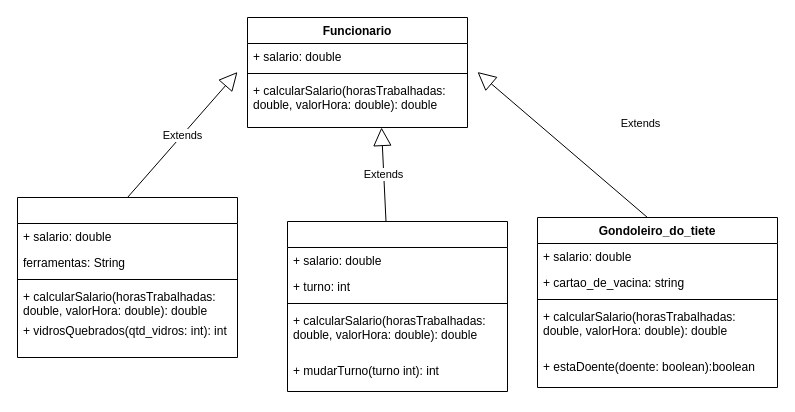
This 795x412 diagram has some shape labels left out. Here are the shapes that lost their labels. From the top down, the box of each, then its label:
(16, 196, 238, 358): Desempenador_de_vidro
(286, 220, 508, 392): Escovador_de_Bits
